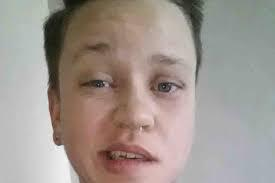strokeEyeMid: (70, 40, 193, 103)
strokeMouthWeak: (94, 137, 166, 177)
